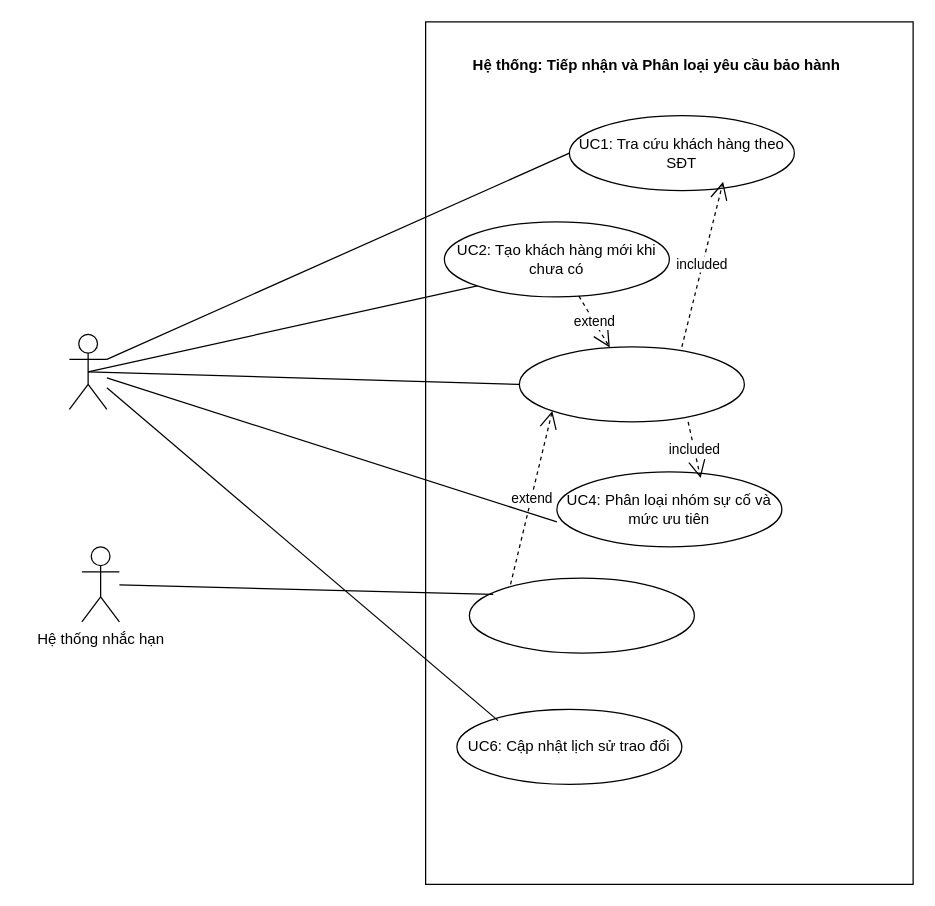
Some shapes in this 935 by 906 pixel diagram are drawn without their labels. The box of each missing label's shape, as (x1, y1, x2, y2) in pixels:
Nhân viên tiếp nhận: (68, 333, 107, 409)
UC3: Tạo phiếu bảo hành mới: (518, 346, 744, 422)
UC5: Tính toán hạn cam kết: (468, 577, 694, 653)
